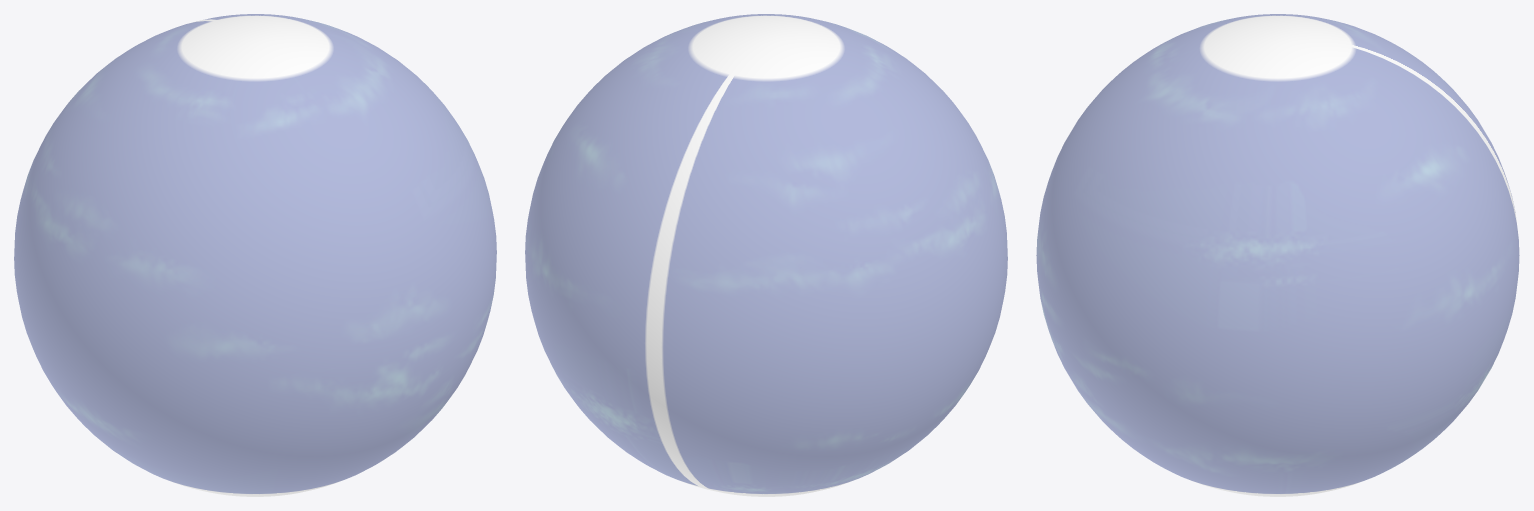
File: Neptune.glb
3 renders of one model, left to right at view 1: azimuth 30°, elevation 25°; view 2: azimuth 150°, elevation 25°; view 3: azimuth 270°, elevation 25°, orthographic.
Visible parts, largest first — view 1: Neptune_Clouds.001; view 2: Neptune_Clouds.001; view 3: Neptune_Clouds.001.
Boxes of the visible parts, x1,y1,x2,y2 form: Neptune_Clouds.001: [14, 14, 496, 496]; Neptune_Clouds.001: [525, 14, 1007, 496]; Neptune_Clouds.001: [1036, 14, 1519, 496].
Size of the model in its own units: 2.04 by 2.04 by 2.04.
Materials: 2 (2 with a texture image).
